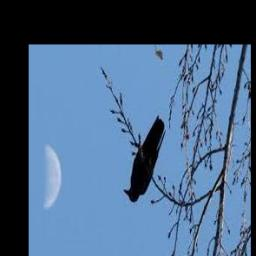Crow: (123, 115, 166, 204)
